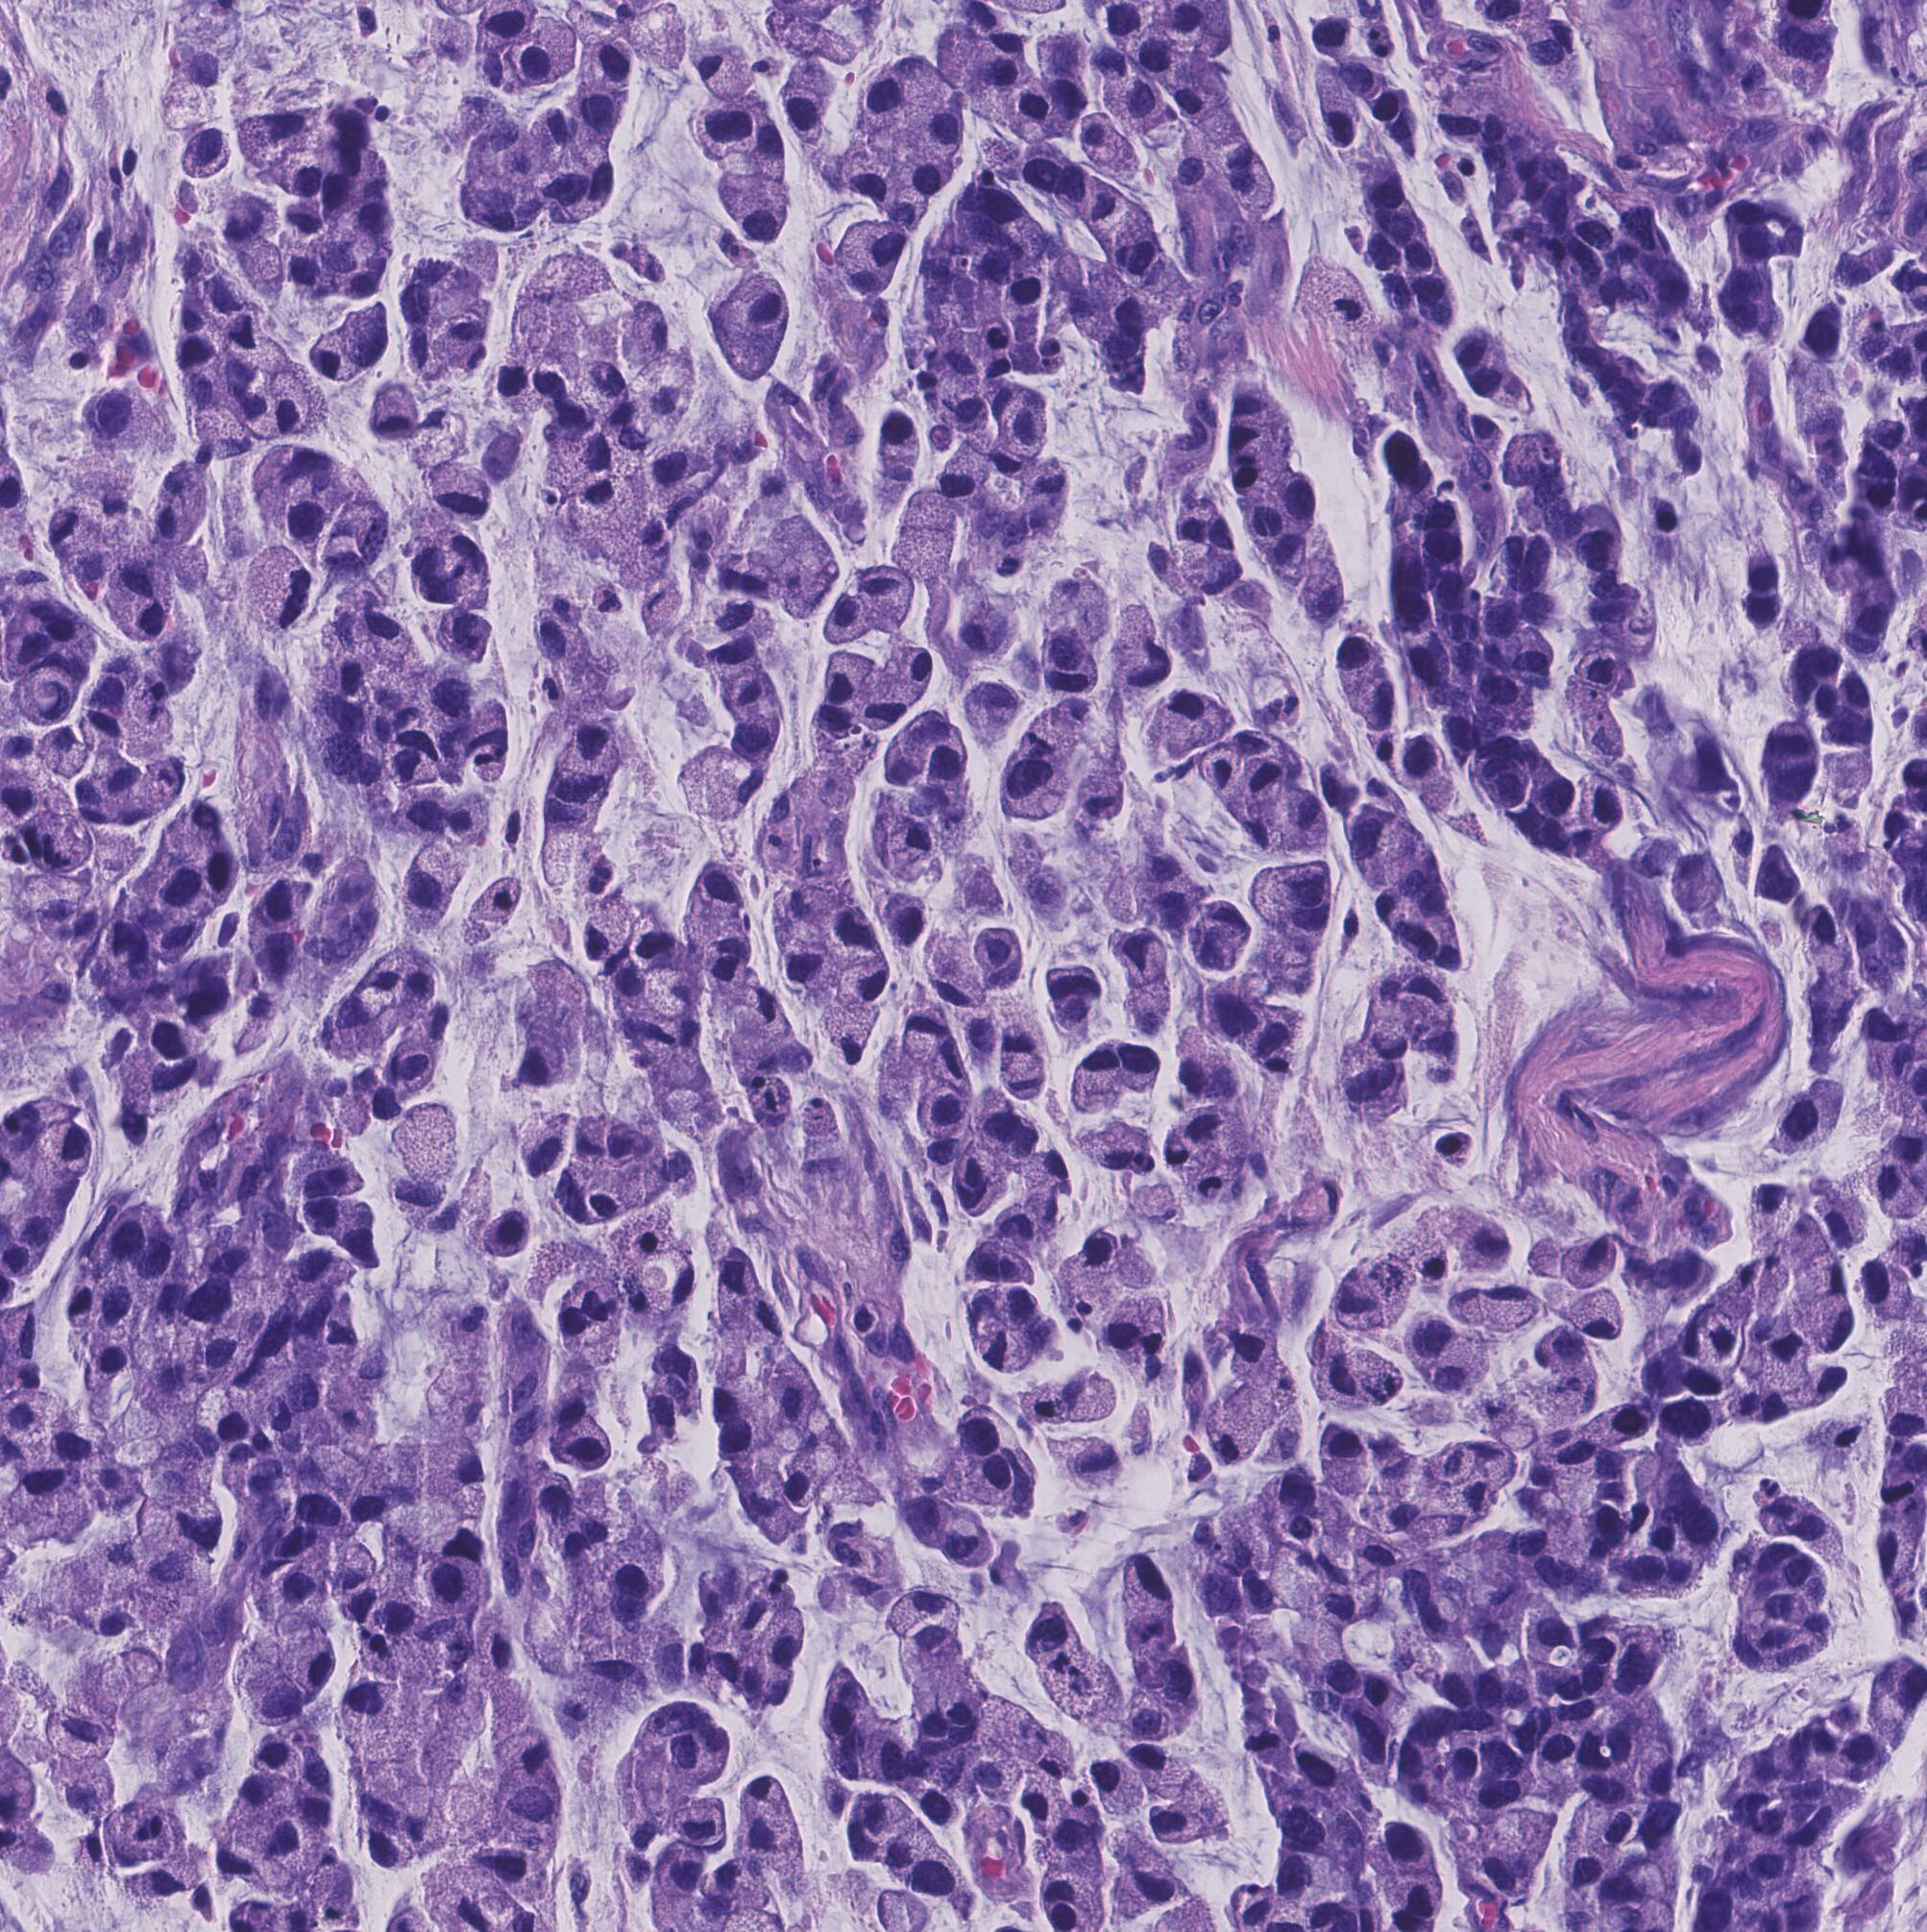ring_cell_cancer: (702, 266, 794, 383), (510, 963, 591, 1089), (1454, 1810, 1551, 1904), (942, 37, 1034, 131), (761, 517, 835, 619), (676, 745, 766, 826), (95, 558, 182, 640), (566, 475, 644, 566), (1246, 865, 1332, 940), (259, 466, 337, 549), (1759, 1494, 1853, 1563), (238, 1639, 307, 1731), (1299, 261, 1378, 339), (1205, 1374, 1271, 1468), (305, 312, 392, 383), (1117, 1554, 1177, 1655), (1001, 739, 1071, 824), (683, 856, 752, 942), (1345, 806, 1433, 873), (1752, 727, 1825, 808), (402, 259, 485, 330), (831, 221, 909, 295), (715, 171, 794, 243), (1145, 692, 1230, 759), (1293, 1749, 1378, 1814), (245, 545, 309, 632), (401, 840, 464, 926), (491, 1770, 566, 1842), (1034, 1657, 1128, 1715), (1110, 603, 1175, 686), (1113, 208, 1175, 295), (814, 889, 884, 963), (1207, 1507, 1283, 1576), (1115, 1826, 1181, 1906), (83, 390, 164, 453), (831, 296, 895, 378), (274, 1618, 337, 1699), (1339, 1050, 1406, 1126), (925, 928, 986, 1009), (736, 1778, 798, 1860), (852, 563, 923, 633), (778, 1431, 844, 1507), (1055, 1235, 1128, 1302), (611, 1530, 669, 1613), (896, 498, 953, 582), (46, 1754, 116, 1821), (378, 1509, 441, 1583), (775, 64, 836, 139), (1311, 58, 1362, 148), (891, 1625, 972, 1681), (138, 1503, 224, 1556), (25, 812, 94, 877), (861, 62, 926, 131), (235, 111, 319, 164), (979, 1699, 1050, 1763), (734, 1484, 814, 1540), (499, 25, 579, 81), (690, 99, 764, 159), (236, 1817, 311, 1877), (162, 466, 214, 552), (1781, 1080, 1837, 1157), (713, 1254, 769, 1332), (1036, 625, 1103, 690), (819, 1000, 882, 1069), (948, 1454, 1020, 1514), (1316, 1422, 1373, 1498), (1080, 111, 1142, 180), (1443, 1212, 1512, 1274), (824, 1526, 902, 1581), (702, 392, 762, 462), (434, 1293, 491, 1367), (1073, 1124, 1154, 1175), (263, 369, 326, 434), (960, 679, 1023, 745), (649, 439, 716, 501), (425, 461, 494, 520), (556, 718, 625, 778), (1147, 1796, 1233, 1844), (1269, 1849, 1352, 1898), (1046, 970, 1103, 1043), (1369, 1821, 1443, 1876), (1793, 1292, 1856, 1355), (494, 1297, 554, 1364), (688, 42, 764, 95), (344, 1449, 397, 1524), (634, 369, 690, 439), (960, 591, 1016, 662), (858, 1717, 914, 1787), (1759, 1318, 1811, 1396), (289, 1283, 334, 1373), (875, 406, 923, 489), (1316, 1329, 1364, 1412), (1202, 979, 1263, 1043), (886, 813, 944, 880), (1106, 928, 1173, 986), (323, 1371, 381, 1438), (1800, 905, 1856, 974), (918, 72, 969, 148), (1068, 1046, 1122, 1117), (138, 861, 215, 910), (1401, 736, 1454, 808), (109, 1808, 182, 1861), (312, 720, 365, 792), (268, 1553, 330, 1614), (528, 607, 591, 667), (164, 801, 228, 861), (872, 646, 937, 704), (120, 1045, 155, 1152), (332, 1200, 383, 1274), (139, 1547, 214, 1599), (334, 498, 390, 565), (1574, 1803, 1641, 1860), (146, 1341, 196, 1417), (1293, 1576, 1364, 1629), (1165, 408, 1218, 478), (702, 1858, 775, 1909), (842, 143, 900, 206), (1567, 506, 1625, 570), (431, 1438, 489, 1501), (547, 438, 614, 492), (581, 891, 635, 958), (1463, 487, 1509, 566), (1124, 1750, 1200, 1798), (1036, 69, 1087, 139), (431, 1373, 489, 1434), (319, 854, 383, 910), (369, 1579, 424, 1644), (653, 1738, 731, 1784), (958, 1242, 1038, 1286), (1398, 1307, 1456, 1367), (429, 1676, 489, 1734), (34, 725, 95, 782), (1332, 633, 1389, 695), (971, 928, 1027, 990), (1428, 1337, 1489, 1394), (466, 1847, 536, 1897), (99, 1200, 148, 1270), (1304, 1643, 1366, 1699), (395, 1023, 443, 1096), (381, 789, 454, 836), (189, 413, 256, 464), (44, 506, 111, 558), (575, 1653, 653, 1697), (471, 1613, 521, 1681), (1073, 173, 1128, 235), (1103, 79, 1173, 127), (341, 1680, 404, 1733), (277, 1371, 330, 1434), (889, 1590, 965, 1634), (1218, 1325, 1283, 1376), (815, 589, 874, 646), (1671, 854, 1728, 912), (425, 1558, 484, 1614), (35, 1124, 94, 1180), (42, 1710, 120, 1752), (937, 441, 992, 501), (351, 609, 411, 663), (425, 660, 480, 720), (782, 940, 842, 995), (1091, 1757, 1145, 1817), (261, 796, 309, 865), (1018, 1604, 1082, 1655), (702, 1376, 766, 1427), (295, 1150, 365, 1196), (648, 1332, 697, 1397), (1576, 1404, 1655, 1445), (958, 1412, 1025, 1459), (42, 1417, 109, 1464), (1173, 69, 1232, 124), (1433, 92, 1491, 146), (1020, 141, 1073, 201), (439, 603, 492, 663), (1521, 30, 1581, 83), (953, 1152, 1006, 1212), (1482, 1399, 1542, 1452), (522, 1112, 568, 1180), (1528, 752, 1578, 815), (572, 90, 626, 146), (902, 148, 956, 205), (819, 653, 875, 708), (318, 646, 374, 700), (881, 1819, 937, 1874), (739, 986, 794, 1043), (464, 178, 522, 231), (1525, 1602, 1578, 1660), (411, 408, 464, 466), (581, 1281, 626, 1348), (665, 1800, 727, 1849), (554, 1420, 616, 1470), (1131, 887, 1200, 932), (1177, 1034, 1221, 1103), (1751, 1180, 1795, 1249), (623, 300, 671, 363), (630, 526, 678, 589), (718, 676, 784, 722), (1336, 1265, 1382, 1330), (1304, 554, 1346, 625), (1057, 1443, 1128, 1486), (222, 192, 281, 243), (1184, 549, 1244, 598), (875, 1043, 912, 1122), (1565, 1293, 1627, 1341), (1479, 1288, 1551, 1329), (1682, 1494, 1728, 1558), (1211, 122, 1265, 175), (1110, 1039, 1163, 1094), (911, 1083, 965, 1136), (1532, 1322, 1586, 1374), (939, 1514, 993, 1567), (1352, 1352, 1405, 1406), (236, 247, 288, 303), (584, 37, 635, 94), (1290, 1175, 1341, 1232), (203, 1224, 254, 1281), (1055, 1378, 1121, 1422), (904, 1854, 969, 1898), (1539, 1736, 1583, 1801), (1018, 468, 1068, 526), (1399, 969, 1449, 1027), (656, 1842, 706, 1900), (247, 884, 305, 933), (360, 1821, 418, 1870), (642, 1703, 724, 1738), (1823, 1191, 1871, 1251), (1175, 134, 1218, 201), (1225, 383, 1292, 425), (526, 109, 572, 171), (1285, 789, 1331, 850), (233, 1777, 295, 1823), (935, 330, 981, 392), (642, 1383, 679, 1459), (369, 388, 422, 441), (547, 803, 582, 882), (94, 1270, 138, 1334), (90, 1325, 134, 1389), (579, 353, 634, 404), (1263, 478, 1318, 529), (1481, 1535, 1521, 1604), (251, 1733, 307, 1782), (1579, 706, 1627, 764), (388, 1173, 446, 1221), (1717, 265, 1777, 311), (544, 166, 588, 228), (499, 353, 544, 415), (1181, 1112, 1248, 1152), (648, 1625, 688, 1692), (854, 1796, 921, 1837), (1832, 1734, 1885, 1786), (1565, 1239, 1620, 1288), (111, 1868, 201, 1898), (499, 1355, 547, 1412), (210, 1390, 258, 1447), (1239, 760, 1285, 819), (1253, 1006, 1299, 1064), (905, 1009, 951, 1067), (1378, 1879, 1447, 1918), (1421, 1445, 1486, 1486), (1572, 649, 1632, 693), (979, 1096, 1023, 1156), (884, 891, 928, 951), (1715, 1258, 1759, 1318), (1124, 985, 1173, 1037), (842, 958, 891, 1011), (1544, 1371, 1597, 1420), (762, 1607, 805, 1669), (1188, 925, 1242, 972), (1638, 1733, 1676, 1800), (905, 1491, 949, 1549), (145, 755, 189, 813), (1426, 1127, 1484, 1172), (1002, 395, 1041, 461), (1532, 1456, 1597, 1494), (95, 752, 145, 803), (1022, 870, 1071, 921), (1136, 30, 1182, 85), (148, 917, 203, 963), (88, 1459, 143, 1505), (289, 242, 332, 300), (1002, 279, 1045, 337), (1403, 644, 1452, 693), (275, 150, 326, 198), (1080, 771, 1128, 822), (1641, 1346, 1687, 1399), (1373, 1487, 1426, 1533), (1124, 1696, 1177, 1741), (972, 1756, 1025, 1801), (1752, 847, 1798, 900), (1221, 169, 1276, 213), (505, 1733, 559, 1777), (205, 1313, 249, 1367), (551, 769, 612, 808), (1451, 328, 1507, 371), (1066, 284, 1108, 341), (939, 393, 997, 434), (222, 307, 272, 355), (443, 794, 491, 843), (471, 879, 519, 928), (176, 46, 224, 95), (184, 129, 229, 180), (1581, 775, 1625, 827), (886, 736, 928, 790), (321, 1300, 356, 1366), (1713, 305, 1786, 337), (1142, 849, 1198, 889), (706, 639, 768, 676), (644, 967, 690, 1016), (1103, 1299, 1142, 1357), (484, 1207, 528, 1258), (1514, 630, 1555, 685), (727, 720, 784, 759), (764, 790, 810, 838), (1389, 914, 1438, 958), (999, 1057, 1050, 1099), (334, 1544, 376, 1595), (711, 955, 754, 1006), (538, 1471, 579, 1524), (171, 245, 219, 289), (1022, 1186, 1062, 1237), (1526, 1556, 1588, 1590), (1795, 1258, 1848, 1297), (1484, 762, 1528, 808), (178, 369, 226, 411), (685, 510, 732, 552), (1560, 1851, 1608, 1893), (558, 1288, 591, 1348), (1193, 900, 1251, 933), (1136, 1300, 1170, 1359), (641, 595, 685, 639), (588, 1175, 630, 1221), (461, 94, 508, 134), (1357, 679, 1394, 730), (1022, 1154, 1073, 1191), (815, 704, 863, 743), (256, 1202, 286, 1262), (90, 678, 134, 718), (609, 1124, 656, 1161), (1486, 596, 1523, 644), (755, 471, 794, 515), (1447, 1733, 1473, 1796), (171, 300, 215, 337), (969, 1290, 1001, 1341), (762, 1660, 794, 1711), (1445, 1288, 1484, 1329), (1766, 1593, 1811, 1629), (575, 1115, 609, 1161), (1369, 1022, 1406, 1060), (284, 203, 328, 235), (1465, 369, 1509, 397), (1018, 1119, 1043, 1159), (738, 1599, 755, 1639)
